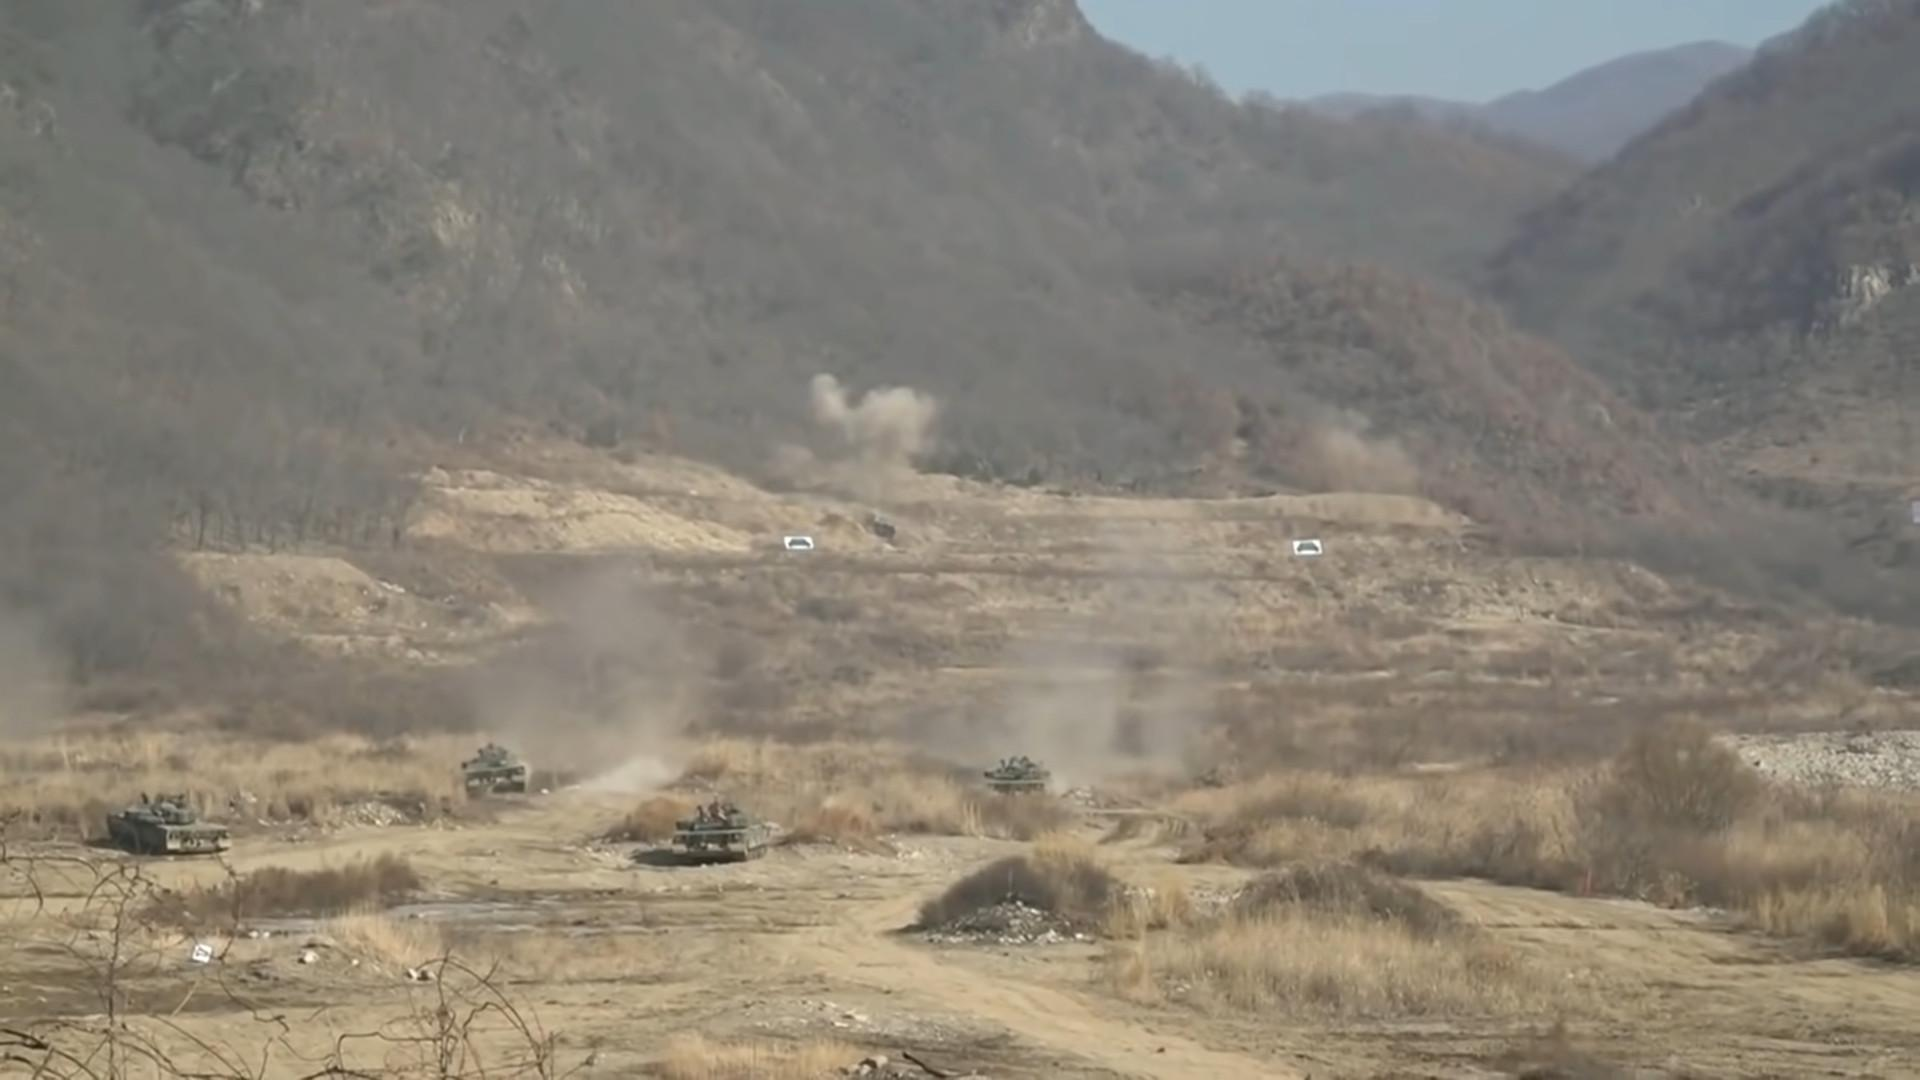tank: (107, 791, 232, 859), (672, 802, 773, 865), (461, 743, 529, 799), (983, 755, 1051, 796)
